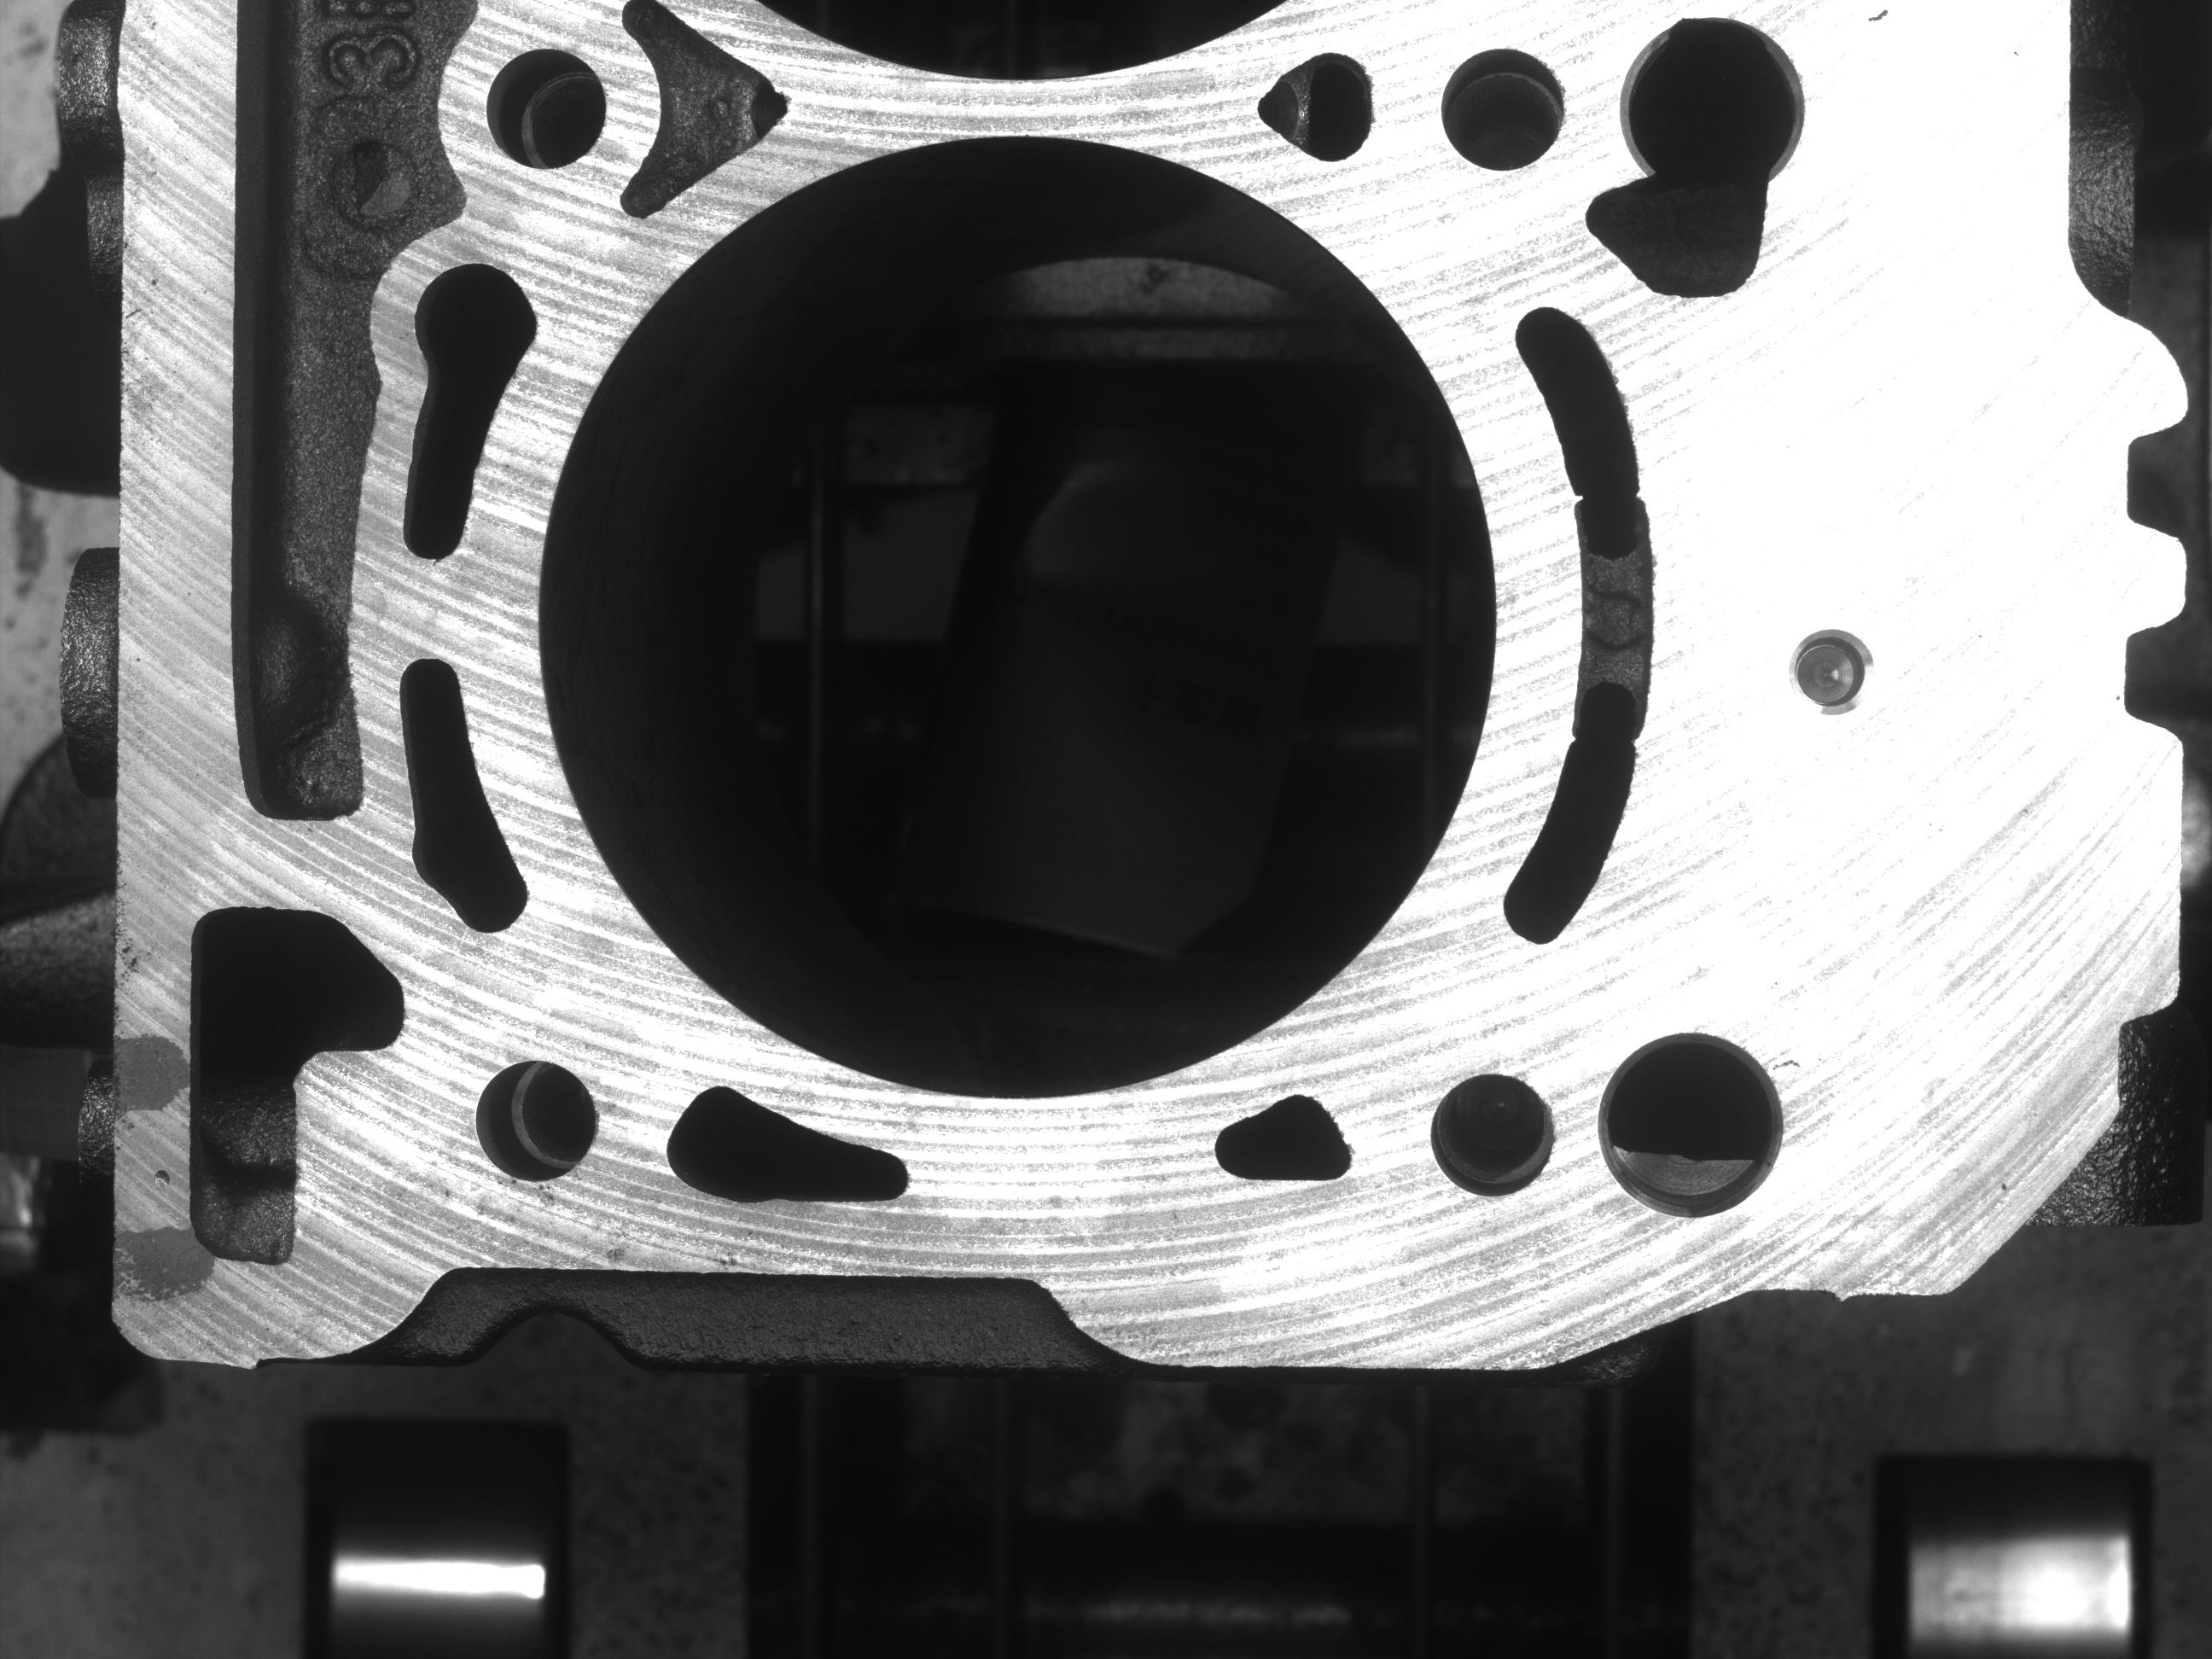shrinkage: (139, 1148, 181, 1202)
